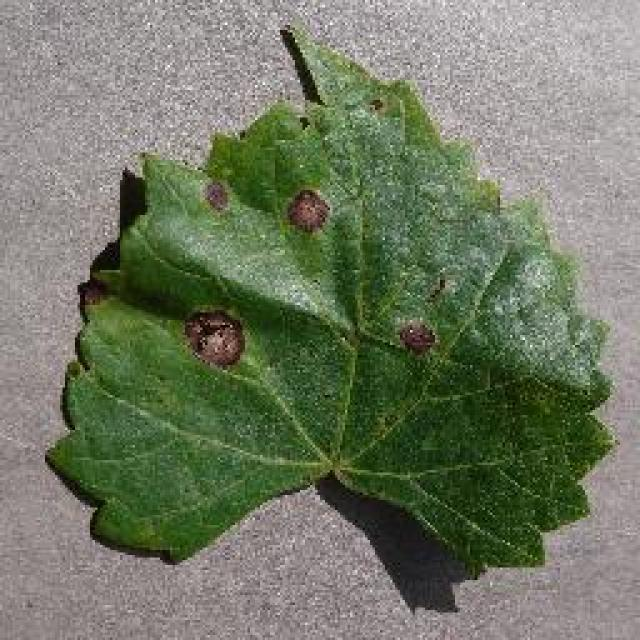Grape___Black_rot: (32, 19, 629, 572)
